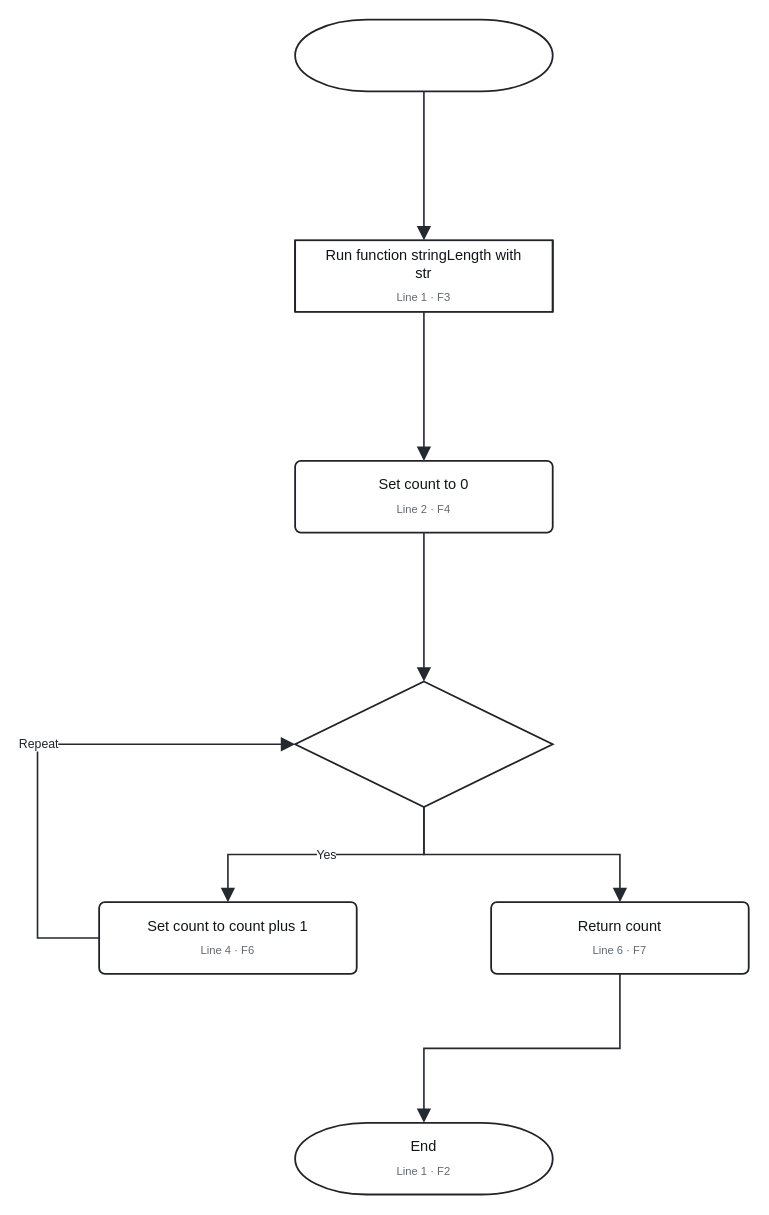
Image size: 769x1215. Some labels were removed from this diagram. The shapes that lost their labels are listed below. From the top down, each one's centre as x and y in pixels, then its label:
At point (423, 55): "Start Line 1 · F1".
At point (423, 743): "For each character in str Line 3 · F5".
